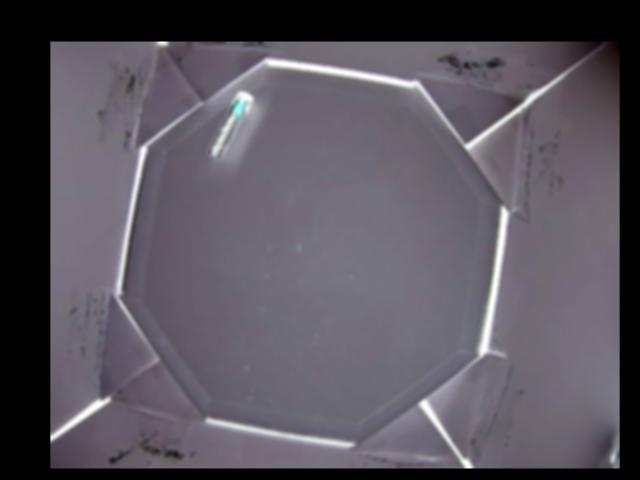Battery: (206, 91, 253, 161)
